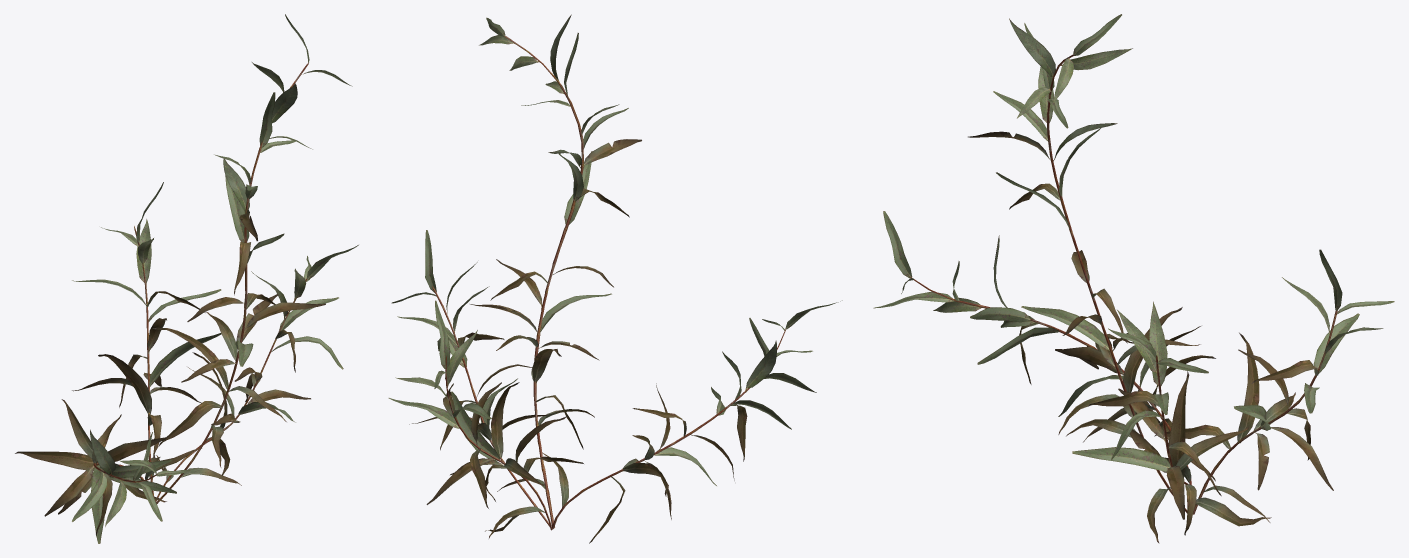
The model's file is shrub_b.glb.
The picture shows the model from 3 angles, left to right: view 1: azimuth 30°, elevation 25°; view 2: azimuth 150°, elevation 25°; view 3: azimuth 270°, elevation 25°; orthographic projection. The views are drawn at different scales.
Parts seen in each view (by area): view 1: shrub_b; view 2: shrub_b; view 3: shrub_b.
Boxes of the visible parts, box(x1,y1,x2,y2) form: shrub_b: box(15, 14, 358, 543); shrub_b: box(388, 14, 842, 543); shrub_b: box(873, 14, 1394, 543).
Size of the model in its own units: 1.11 by 1.51 by 1.28.
1 material, 1 textured.
